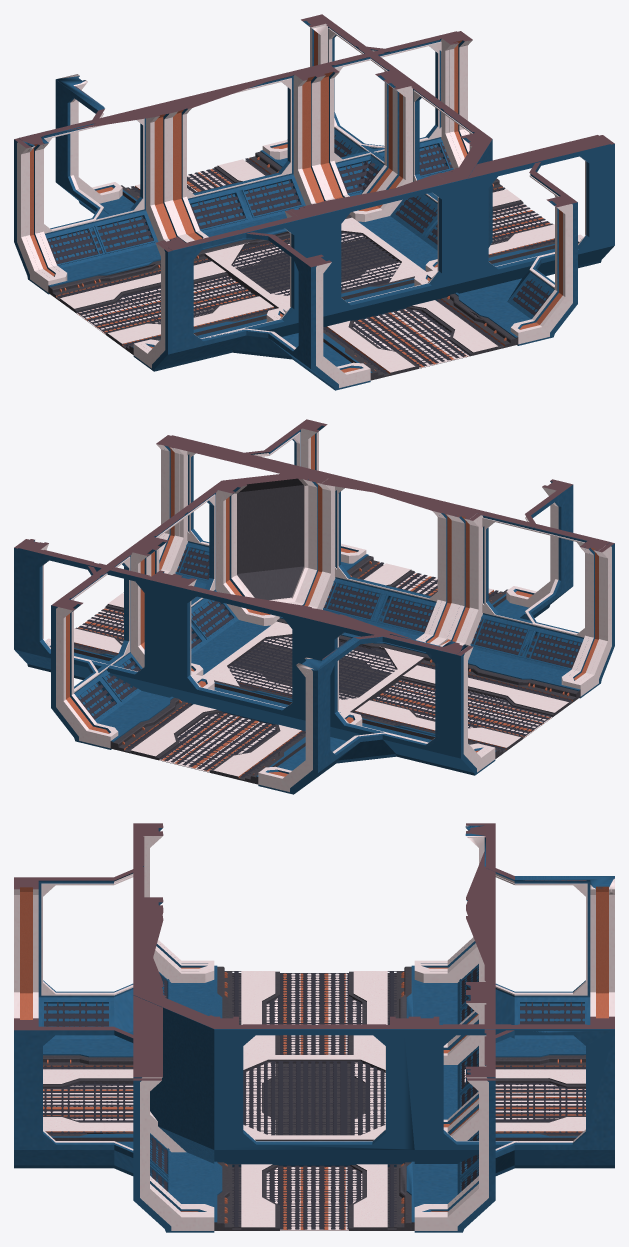
The picture shows the model from 3 angles, top to bottom: view 1: azimuth 30°, elevation 25°; view 2: azimuth 150°, elevation 25°; view 3: azimuth 270°, elevation 25°; orthographic projection. The views are drawn at different scales.
Visible parts, largest first — view 1: MeshBaker___40_00__0_00___20_00__mesh_mesh, MeshBaker___20_00__0_00___20_00__mesh_mesh, MeshBaker__0_00__0_00___20_00__mesh_mesh, MeshBaker__20_00__0_00___20_00__mesh_mesh; view 2: MeshBaker___40_00__0_00___20_00__mesh_mesh, MeshBaker__0_00__0_00___20_00__mesh_mesh, MeshBaker___20_00__0_00___20_00__mesh_mesh, MeshBaker__20_00__0_00___20_00__mesh_mesh; view 3: MeshBaker___20_00__0_00___20_00__mesh_mesh, MeshBaker__0_00__0_00___20_00__mesh_mesh, MeshBaker___40_00__0_00___20_00__mesh_mesh, MeshBaker__20_00__0_00___20_00__mesh_mesh.
Boxes of the visible parts, x1,y1,x2,y2 form: MeshBaker___40_00__0_00___20_00__mesh_mesh: (14,31,610,371); MeshBaker___20_00__0_00___20_00__mesh_mesh: (25,22,614,390); MeshBaker__0_00__0_00___20_00__mesh_mesh: (18,14,492,347); MeshBaker__20_00__0_00___20_00__mesh_mesh: (44,22,614,347); MeshBaker___40_00__0_00___20_00__mesh_mesh: (18,435,614,775); MeshBaker__0_00__0_00___20_00__mesh_mesh: (51,470,610,793); MeshBaker___20_00__0_00___20_00__mesh_mesh: (14,419,589,794); MeshBaker__20_00__0_00___20_00__mesh_mesh: (74,449,603,783); MeshBaker___20_00__0_00___20_00__mesh_mesh: (14,829,614,1232); MeshBaker__0_00__0_00___20_00__mesh_mesh: (133,825,614,1168); MeshBaker___40_00__0_00___20_00__mesh_mesh: (133,823,495,1228); MeshBaker__20_00__0_00___20_00__mesh_mesh: (133,830,614,1232).
Size of the model in its own units: 1212 by 337 by 1200.
